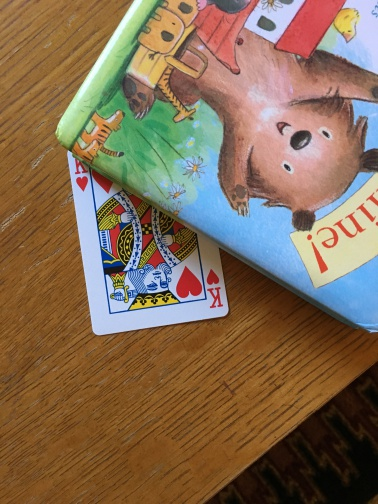king: (66, 146, 229, 336)
